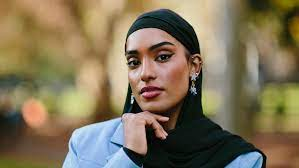person: (122, 8, 203, 113)
